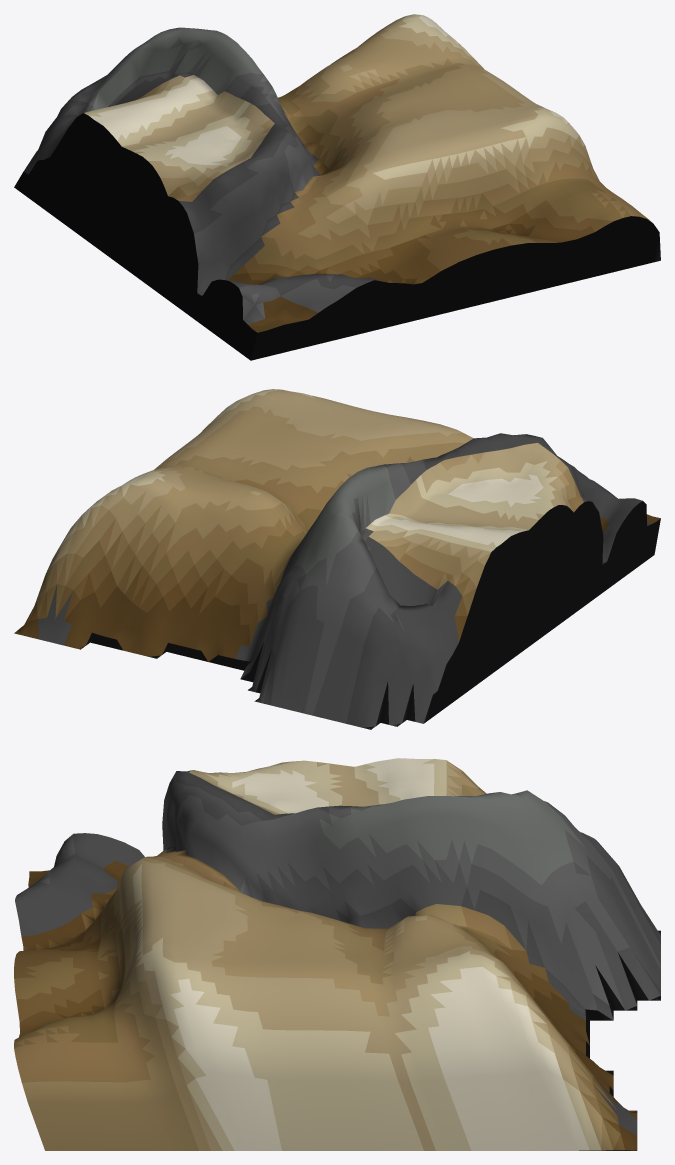
File: rock_machine_tr.glb
3 views of the same model, one above another, from view 1: azimuth 30°, elevation 25°; view 2: azimuth 150°, elevation 25°; view 3: azimuth 270°, elevation 25° (orthographic). The views are drawn at different scales.
Parts seen in each view (by area): view 1: rock_machine_tr; view 2: rock_machine_tr; view 3: rock_machine_tr.
Part boxes in pixels (x1=…): rock_machine_tr: x1=14, y1=14, x2=660, y2=360; rock_machine_tr: x1=14, y1=389, x2=660, y2=729; rock_machine_tr: x1=14, y1=758, x2=660, y2=1150.
Bounding box in the file's own units: 24 × 9.3 × 27.31.
